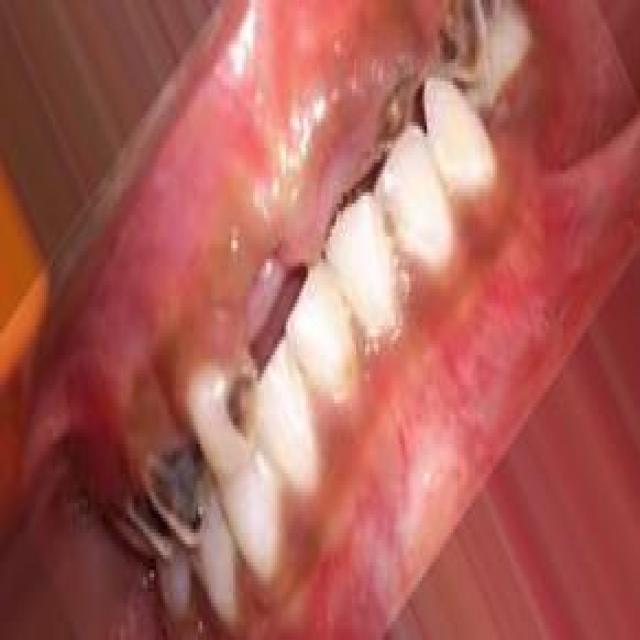caries: (128, 439, 216, 556), (420, 0, 508, 100), (189, 352, 276, 452), (370, 51, 427, 161)
